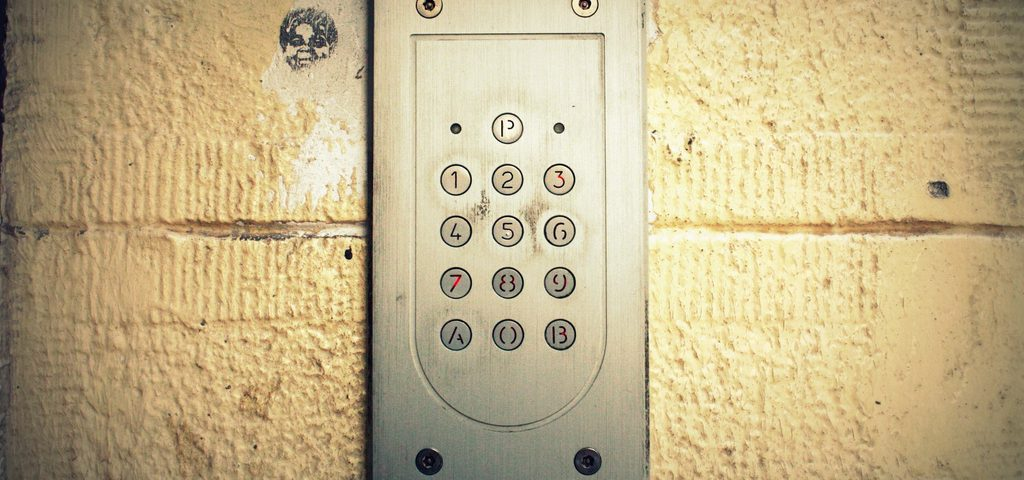digicode: (432, 160, 581, 356)
